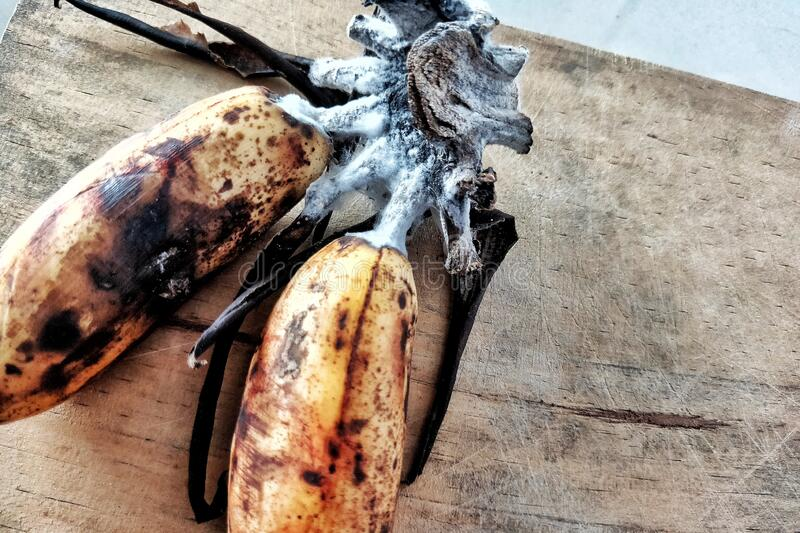looks_defective: (104, 75, 547, 384)
